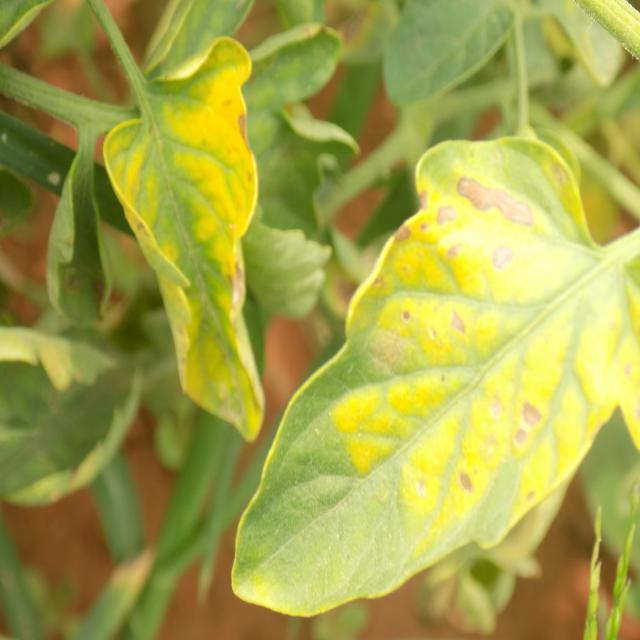tomato_early blight: (230, 124, 640, 613), (104, 30, 270, 449)
